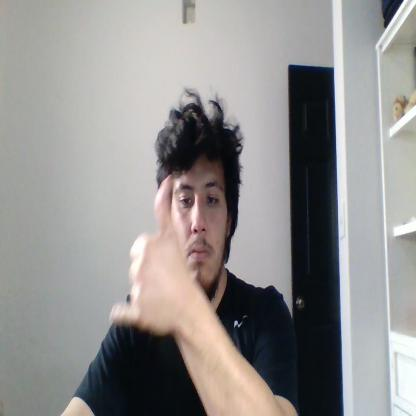Y: (110, 175, 182, 333)
